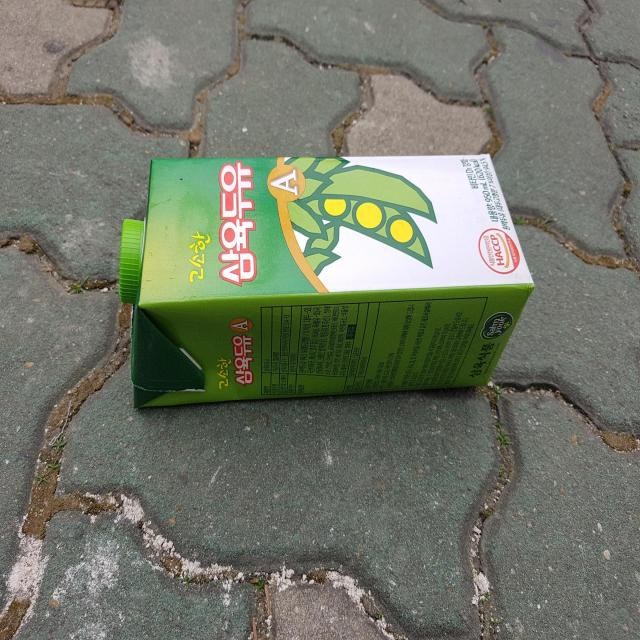paperpack: (119, 153, 534, 408)
